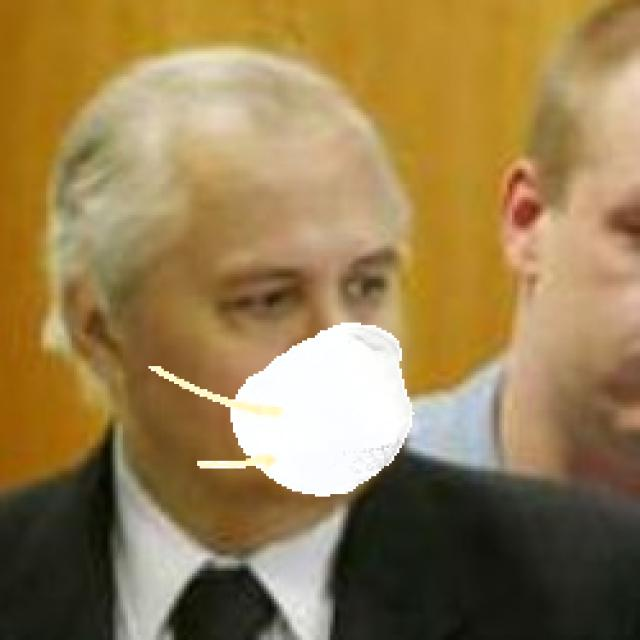mask: (154, 333, 433, 489)
